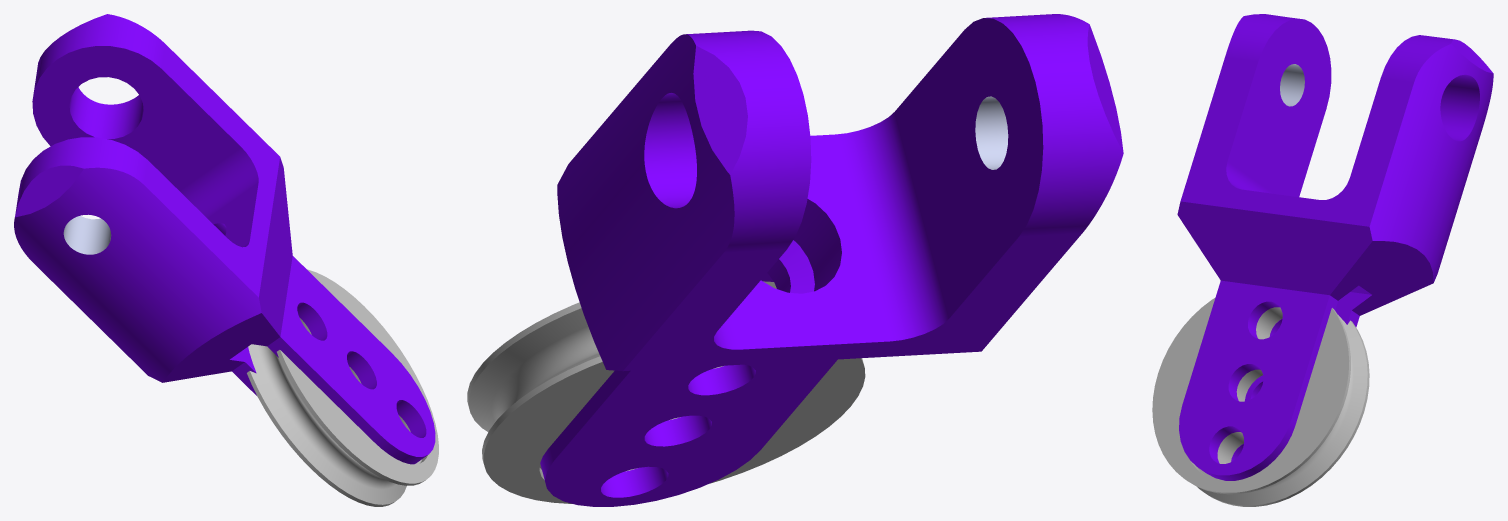
The model's file is wrist.dae.
The picture shows the model from 3 angles, left to right: view 1: azimuth 30°, elevation 25°; view 2: azimuth 150°, elevation 25°; view 3: azimuth 270°, elevation 25°; orthographic projection. The views are drawn at different scales.
Parts seen in each view (by area): view 1: Actor0, Actor1; view 2: Actor0, Actor1; view 3: Actor0, Actor1.
Part boxes in pixels (x1,y1,x2,y2): Actor0: (14,14,435,464); Actor1: (247,269,438,506); Actor0: (540,14,1123,506); Actor1: (467,281,865,503); Actor0: (1177,14,1493,480); Actor1: (1152,297,1369,506).
Bounding box in the file's own units: 0.0159 × 0.0158 × 0.0127.
